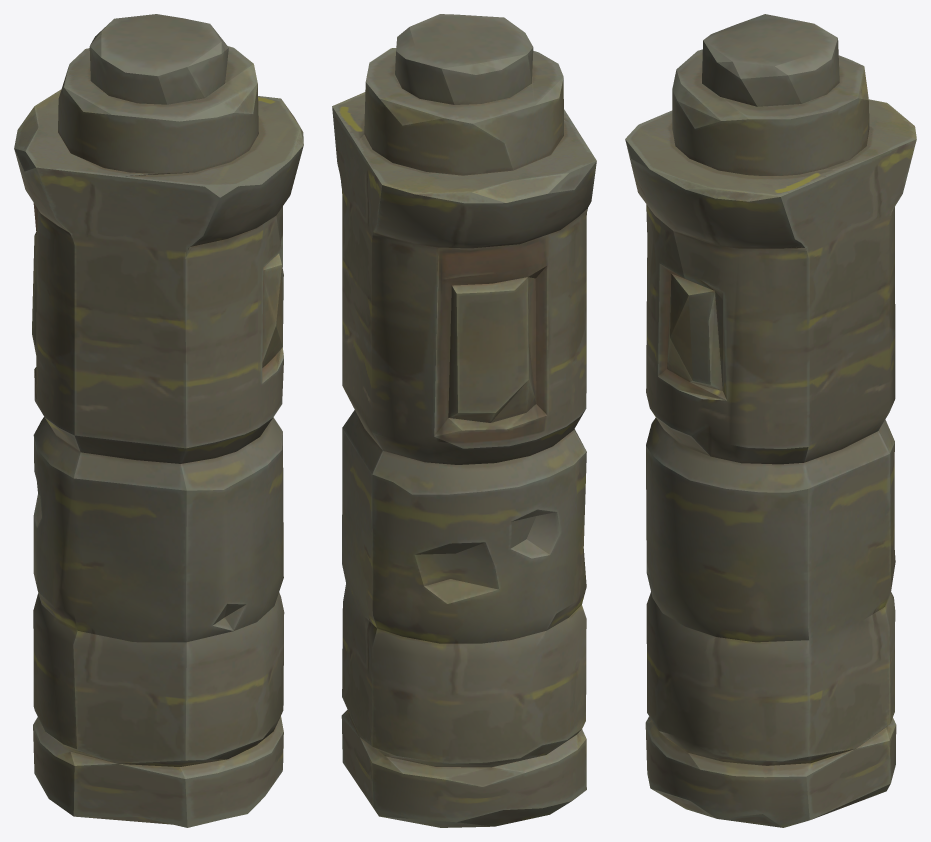
File: Pillar.fbx
The picture shows the model from 3 angles, left to right: view 1: azimuth 30°, elevation 25°; view 2: azimuth 150°, elevation 25°; view 3: azimuth 270°, elevation 25°; orthographic projection.
Visible parts, largest first — view 1: Pillar; view 2: Pillar; view 3: Pillar.
Boxes of the visible parts, <box> form: Pillar: <box>14,14,303,827</box>; Pillar: <box>332,14,596,827</box>; Pillar: <box>625,14,916,827</box>.
Size of the model in its own units: 3.51 by 9.77 by 3.5.
